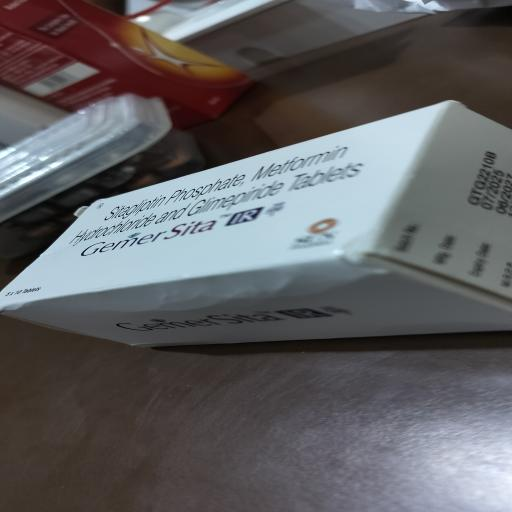Sitagliptin-Phosphate: (66, 138, 380, 247)
medicine: (60, 168, 489, 333)
